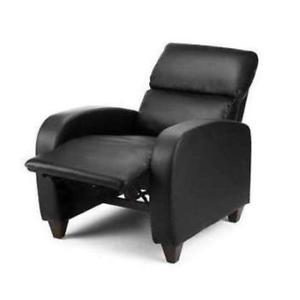chairs: (28, 42, 261, 266)
